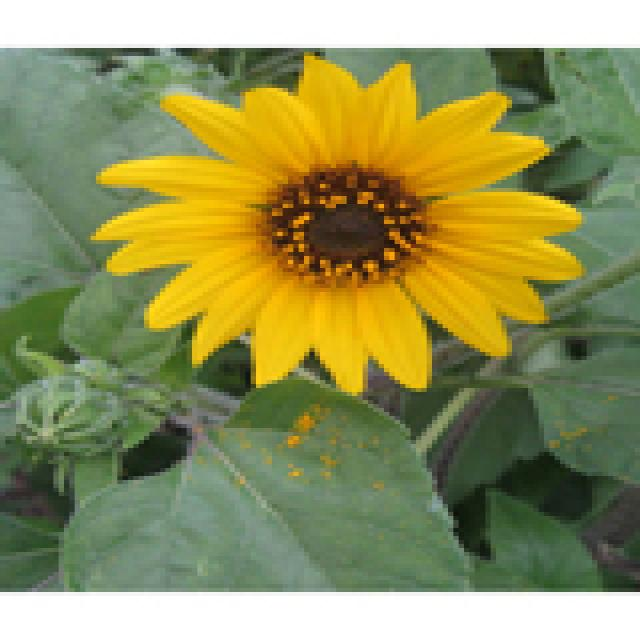sunflower: (79, 47, 594, 410)
